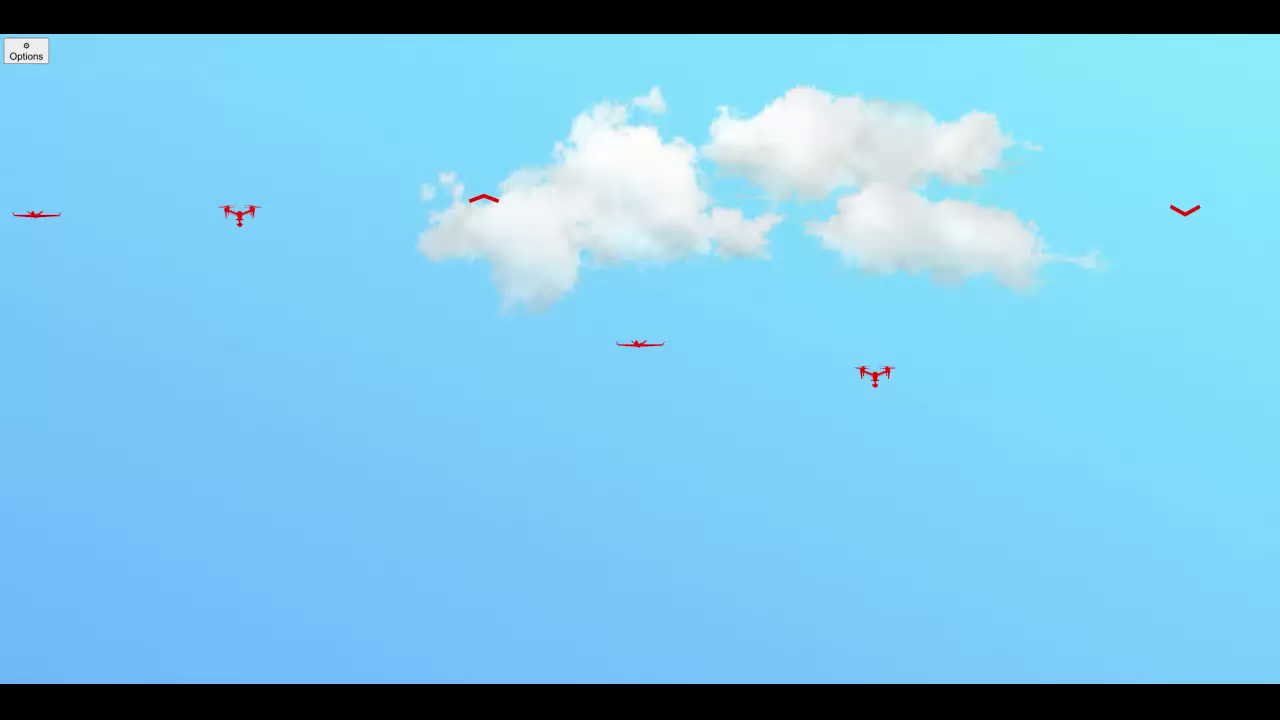Bird: (455, 177, 509, 219), (1155, 195, 1211, 234)
Drone: (605, 320, 680, 362), (8, 192, 73, 236)
Quadcopter: (846, 355, 914, 403), (201, 196, 273, 239)
